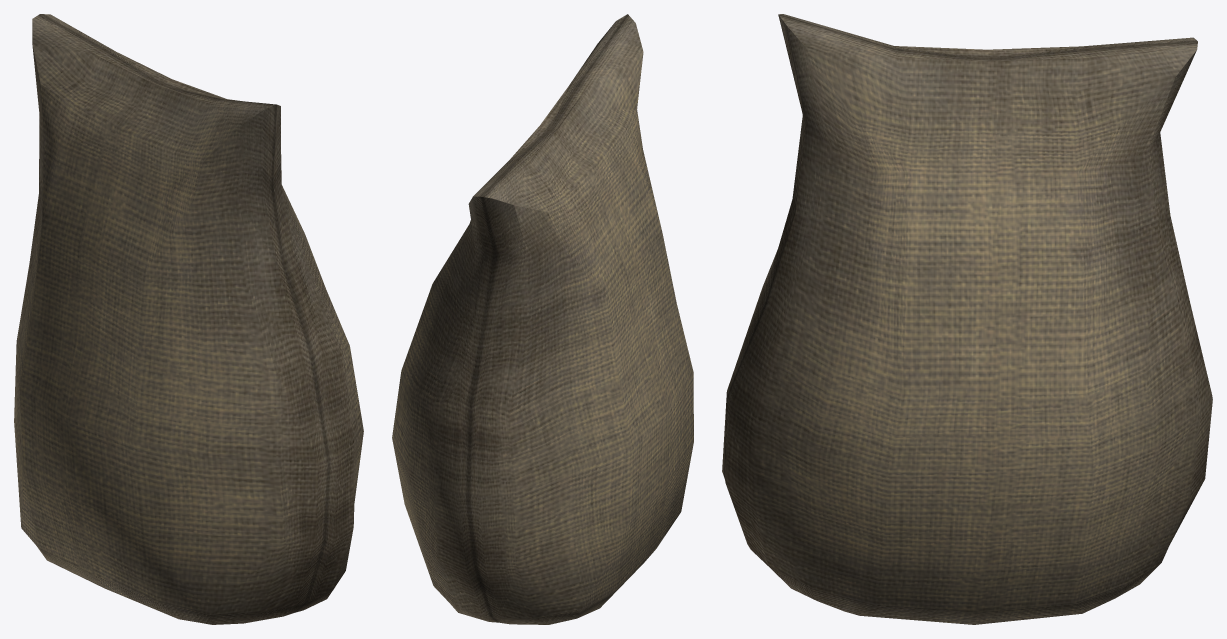
File: Sack_LOD01.fbx
3 views of the same model, side by side, from view 1: azimuth 30°, elevation 25°; view 2: azimuth 150°, elevation 25°; view 3: azimuth 270°, elevation 25° (orthographic). The views are drawn at different scales.
Visible parts, largest first — view 1: Mesh Object; view 2: Mesh Object; view 3: Mesh Object.
Boxes of the visible parts, x1,y1,x2,y2 form: Mesh Object: (14, 14, 363, 624); Mesh Object: (392, 14, 693, 624); Mesh Object: (722, 14, 1212, 624).
Size of the model in its own units: 0.3899 by 0.7681 by 0.5933.
